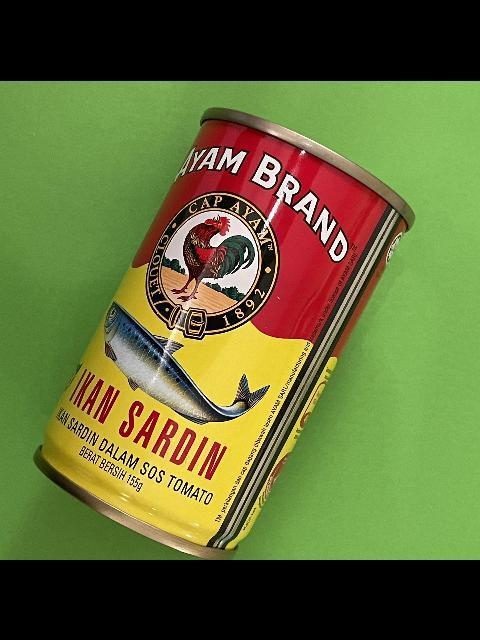foodcan: (30, 104, 420, 560)
